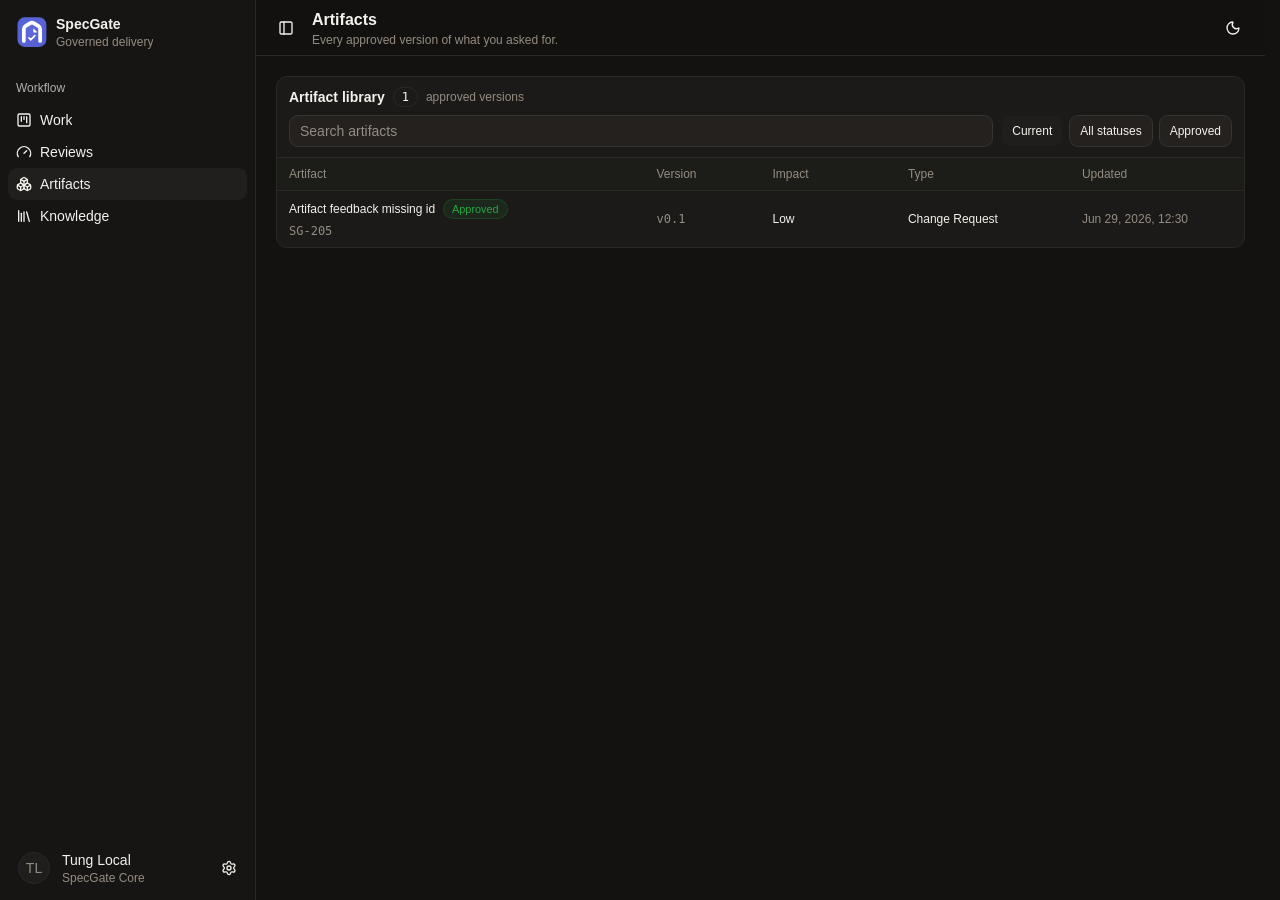
Scenario: SpecGate UI shell: artifact evidence › does not synthesize live artifact feedback rows without registry ids
Expected: the text "Artifact feedback missing id" is shown, x1=289 y1=201 x2=435 y2=217
Click the button "Artifact feedback missing id Approved SG-205".
click(398, 219)  # box x1=289 y1=199 x2=508 y2=239
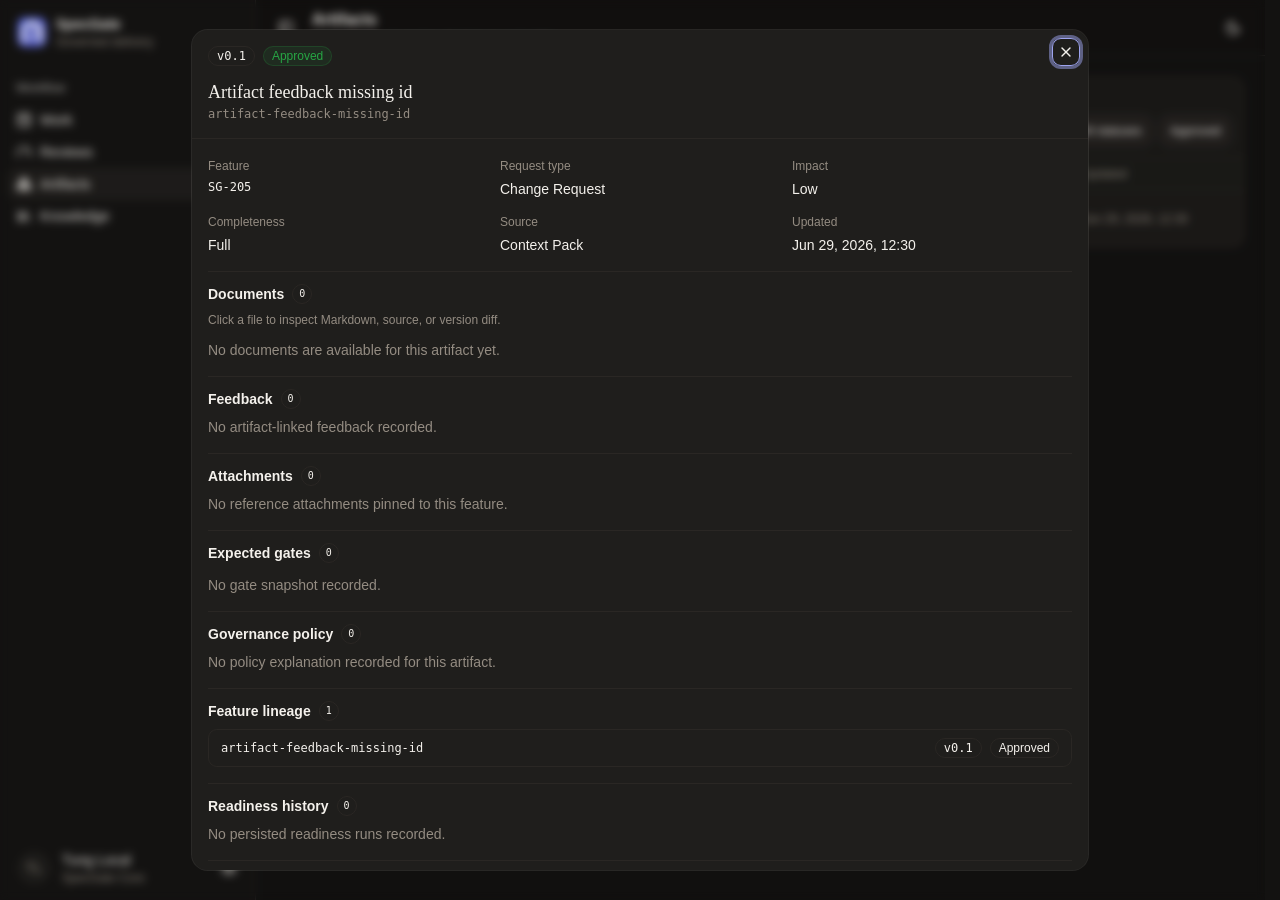
Expected: the text "No artifact-linked feedback recorded." is shown, x1=208 y1=419 x2=437 y2=435
